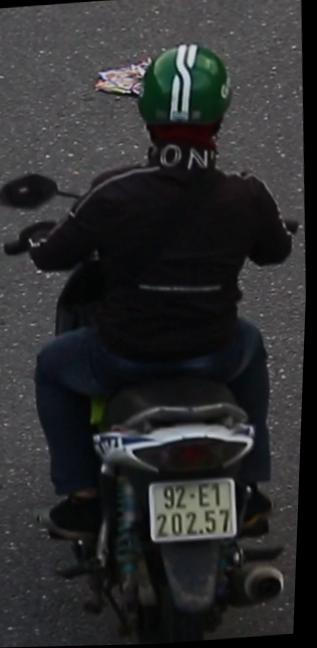LP: (145, 469, 247, 550)
helmet: (127, 32, 244, 175)
